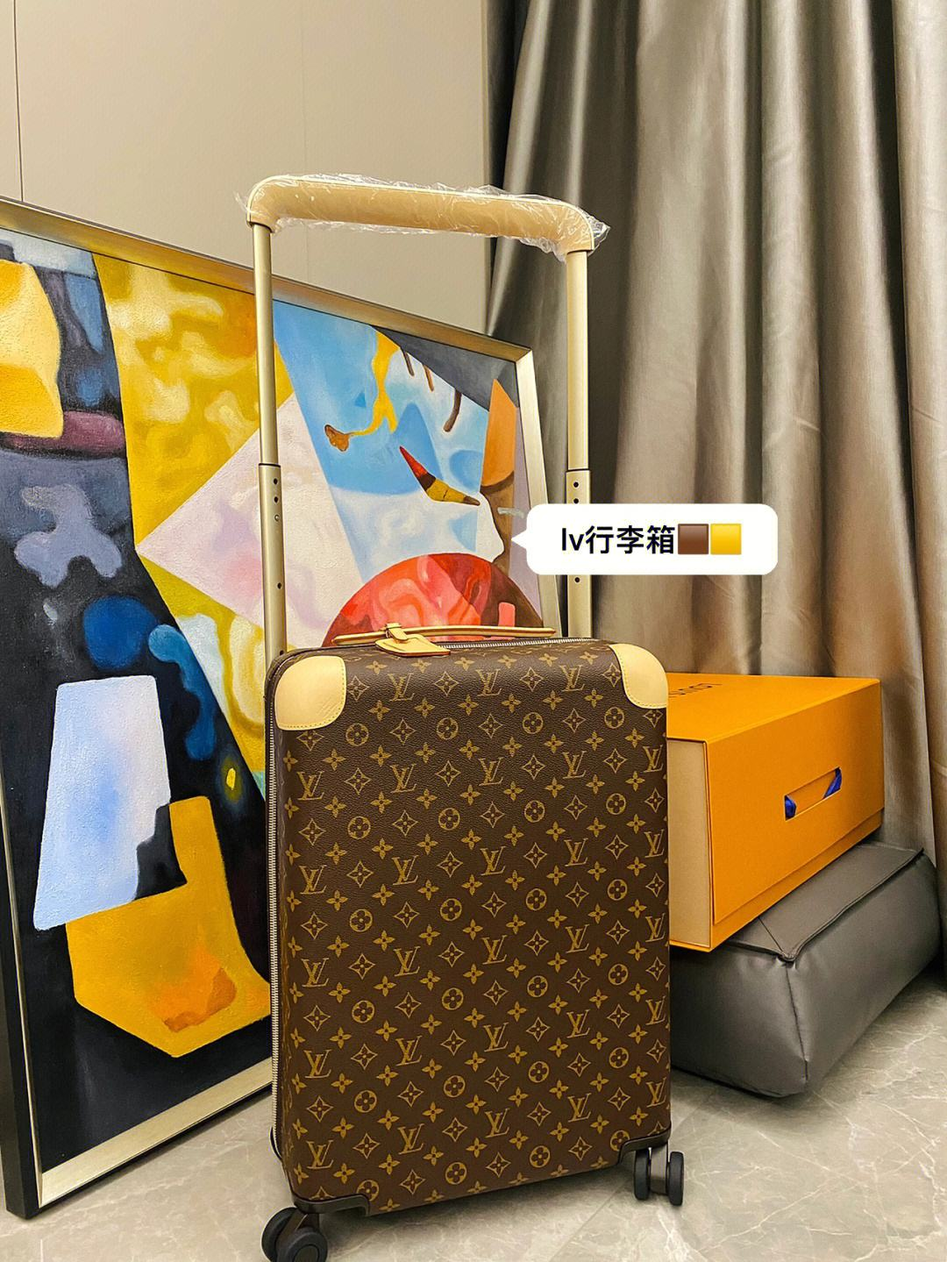box: (265, 641, 671, 1219)
handle: (331, 625, 558, 646)
wheel: (260, 1208, 330, 1262), (631, 1145, 686, 1207)
